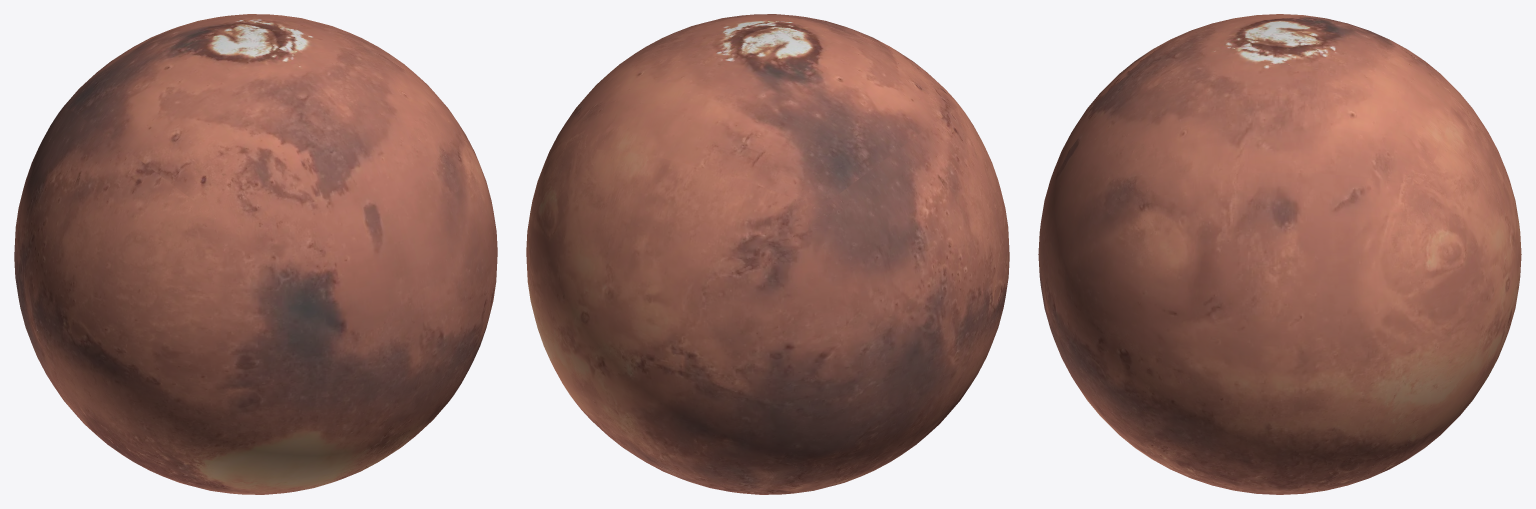
The model's file is mars.glb.
The picture shows the model from 3 angles, left to right: view 1: azimuth 30°, elevation 25°; view 2: azimuth 150°, elevation 25°; view 3: azimuth 270°, elevation 25°; orthographic projection.
Visible parts, largest first — view 1: Cube.008; view 2: Cube.008; view 3: Cube.008.
Boxes of the visible parts, x1,y1,x2,y2 form: Cube.008: [14, 14, 497, 494]; Cube.008: [526, 14, 1009, 494]; Cube.008: [1038, 14, 1521, 494].
Bounding box in the file's own units: 1000 × 994 × 1000.
Materials: 1 (1 with a texture image).
